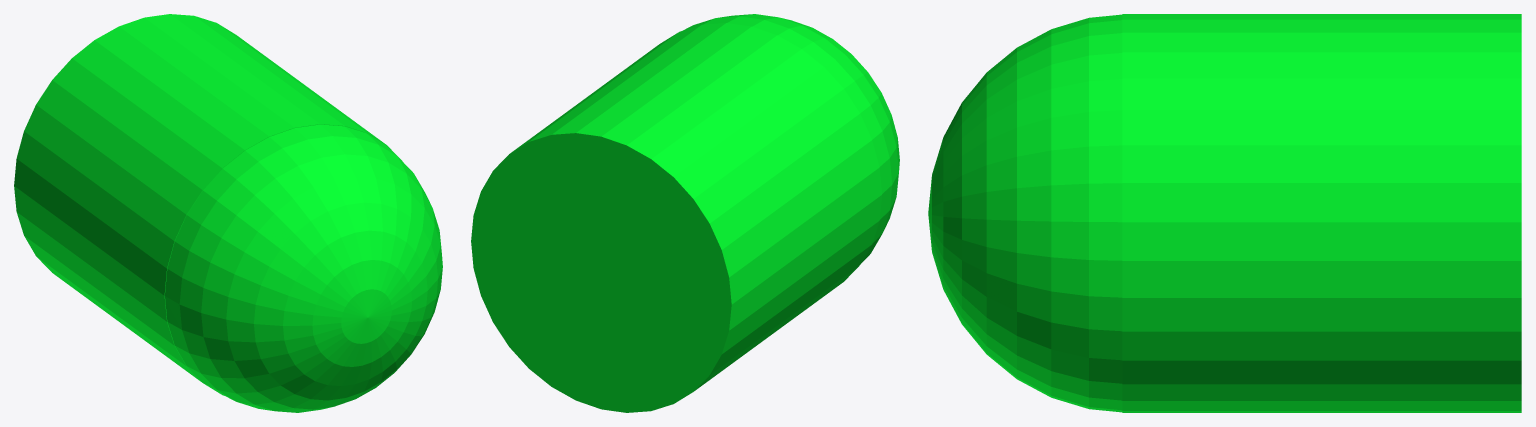
File: lightbulb02.obj
3 renders of one model, left to right at view 1: azimuth 30°, elevation 25°; view 2: azimuth 150°, elevation 25°; view 3: azimuth 270°, elevation 25°, orthographic. The views are drawn at different scales.
Parts seen in each view (by area): view 1: lightbulb_Sphere; view 2: lightbulb_Sphere; view 3: lightbulb_Sphere.
Part boxes in pixels (<box>): lightbulb_Sphere: <box>14,14,442,412</box>; lightbulb_Sphere: <box>471,14,899,412</box>; lightbulb_Sphere: <box>928,14,1521,412</box>.
Bounding box in the file's own units: 2 × 2 × 2.97.
